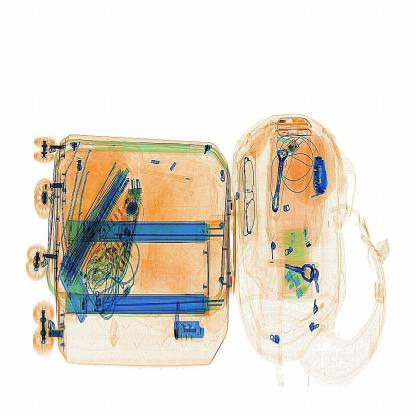scissors: (311, 153, 332, 203)
